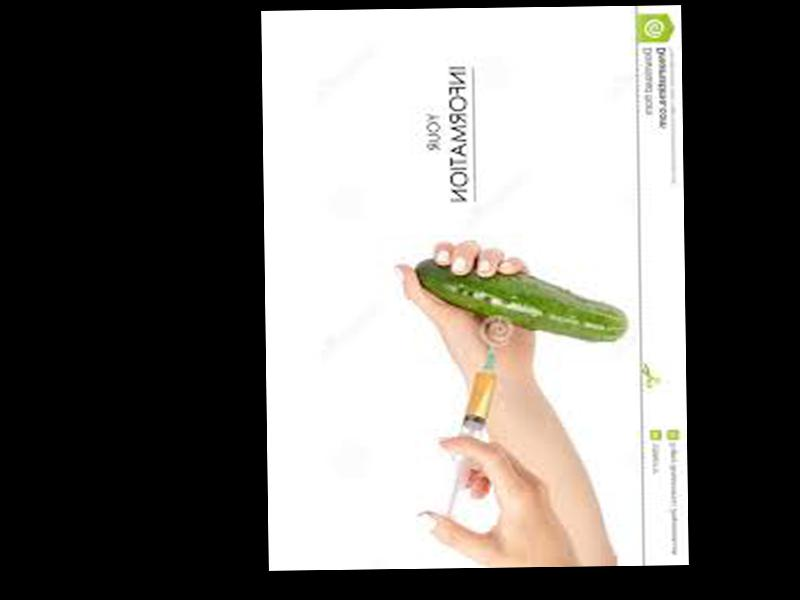Cucumber: (414, 256, 628, 344)
